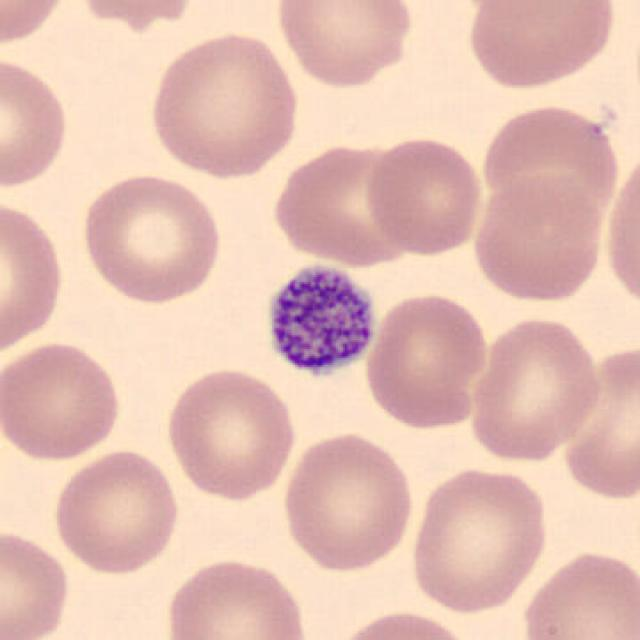Platelets: (262, 255, 382, 382)
RBC: (146, 26, 304, 180), (407, 462, 551, 615), (466, 312, 604, 464), (76, 169, 226, 307), (268, 138, 426, 268), (277, 428, 416, 575), (162, 363, 298, 503), (361, 287, 492, 432), (469, 169, 608, 305), (477, 101, 622, 229), (48, 446, 183, 578), (0, 337, 126, 465), (361, 132, 487, 259), (462, 0, 619, 92), (554, 342, 640, 504), (270, 0, 420, 92), (160, 553, 313, 640), (517, 546, 638, 640), (0, 194, 68, 361), (0, 53, 73, 192), (0, 525, 73, 640), (599, 146, 640, 316), (327, 606, 480, 640), (69, 0, 201, 32), (0, 0, 73, 49)
